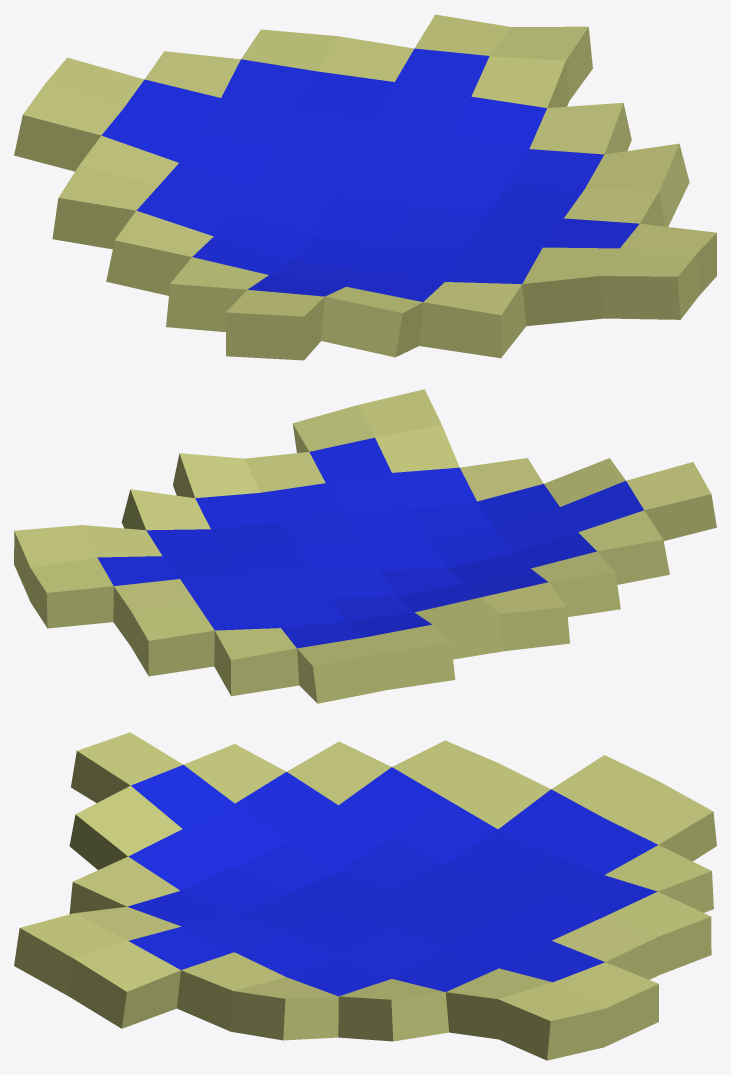
The model's file is Pond.fbx.
3 renders of one model, top to bottom at view 1: azimuth 30°, elevation 25°; view 2: azimuth 150°, elevation 25°; view 3: azimuth 270°, elevation 25°, orthographic. The views are drawn at different scales.
Visible parts, largest first — view 1: Pond; view 2: Pond; view 3: Pond.
Part boxes in pixels (box(x1,y1,x2,y2)): Pond: box(14, 14, 716, 360); Pond: box(14, 389, 716, 703); Pond: box(14, 732, 716, 1060).
Size of the model in its own units: 75.71 by 82.44 by 11.97.
